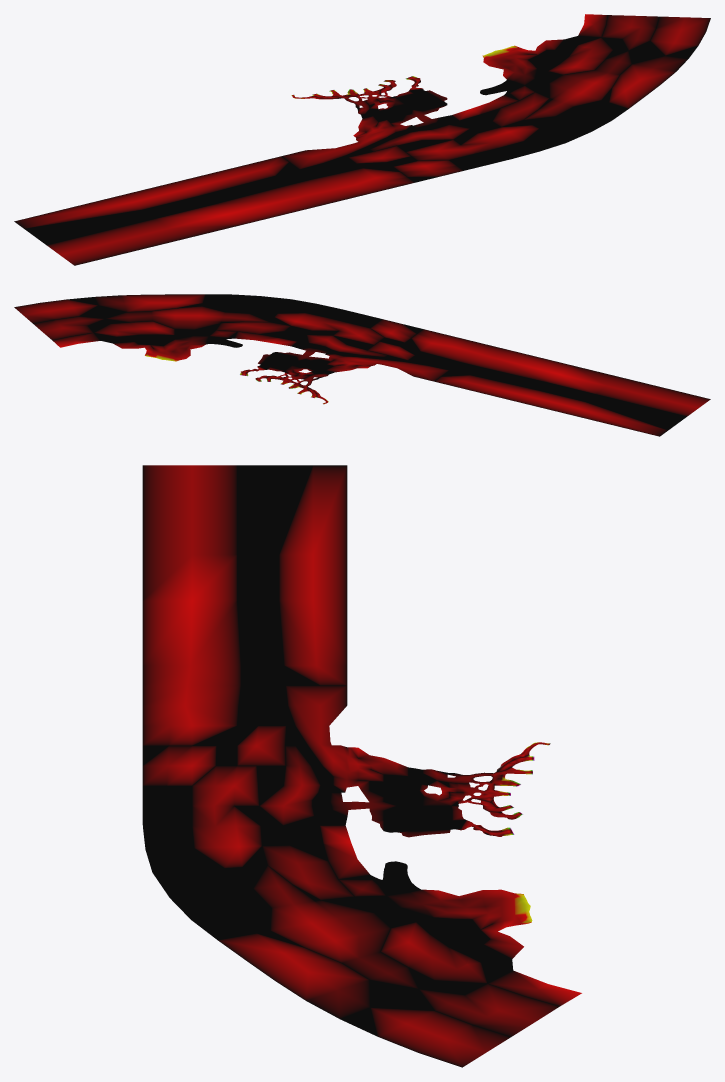
3 views of the same model, one above another, from view 1: azimuth 30°, elevation 25°; view 2: azimuth 150°, elevation 25°; view 3: azimuth 270°, elevation 25° (orthographic). The views are drawn at different scales.
Parts seen in each view (by area): view 1: G:\FFXIV-MapTools\exports\y6f2\bg\ex5\02_ykt_y6\fld\y6f2\bgp; view 2: G:\FFXIV-MapTools\exports\y6f2\bg\ex5\02_ykt_y6\fld\y6f2\bgp; view 3: G:\FFXIV-MapTools\exports\y6f2\bg\ex5\02_ykt_y6\fld\y6f2\bgp.
Boxes of the visible parts, bbox=[...] form: G:\FFXIV-MapTools\exports\y6f2\bg\ex5\02_ykt_y6\fld\y6f2\bgp: bbox=[14, 14, 710, 265]; G:\FFXIV-MapTools\exports\y6f2\bg\ex5\02_ykt_y6\fld\y6f2\bgp: bbox=[14, 294, 710, 436]; G:\FFXIV-MapTools\exports\y6f2\bg\ex5\02_ykt_y6\fld\y6f2\bgp: bbox=[142, 465, 581, 1067].
Bounding box in the file's own units: 6008 × 2.88 × 1854.
